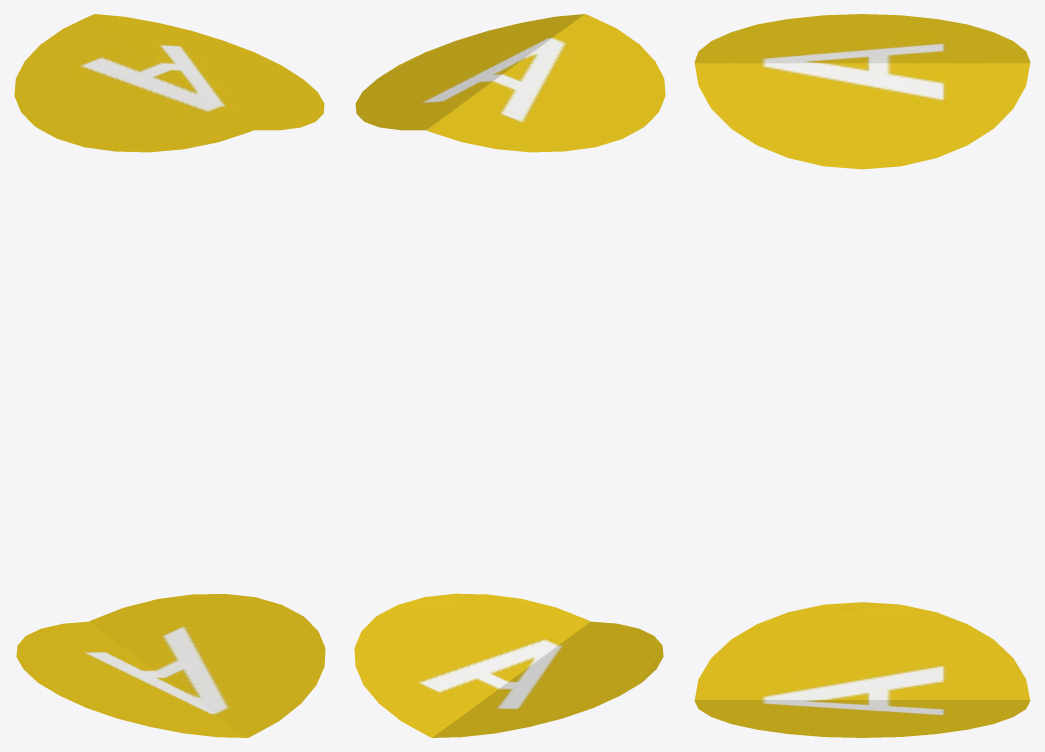
Rendered from mp-0072-geode.glb.
The picture shows the model from 3 angles, left to right: view 1: azimuth 30°, elevation 25°; view 2: azimuth 150°, elevation 25°; view 3: azimuth 270°, elevation 25°; orthographic projection. The views are drawn at different scales.
Parts seen in each view (by area): view 1: Node; view 2: Node; view 3: Node.
Boxes of the visible parts, x1,y1,x2,y2 form: Node: [14, 14, 325, 737]; Node: [354, 14, 665, 737]; Node: [694, 14, 1030, 737].
Bounding box in the file's own units: 0.1458 × 0.3145 × 0.1498.
Materials: 1 (1 with a texture image).
